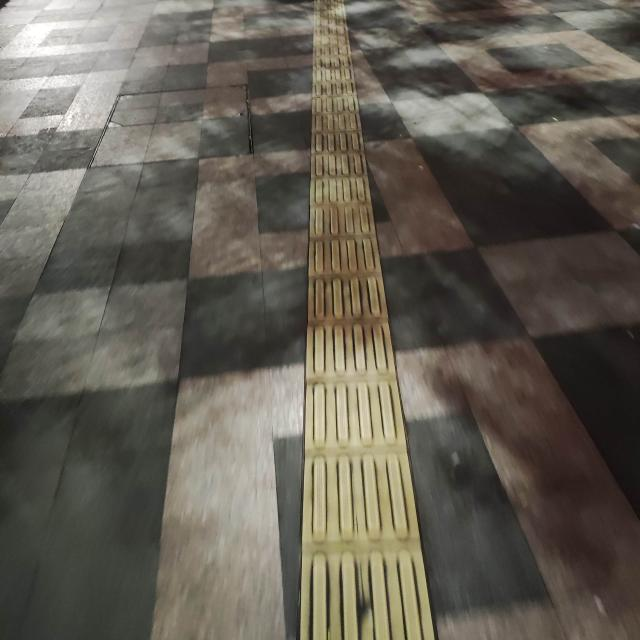lurus: (286, 0, 404, 640)
